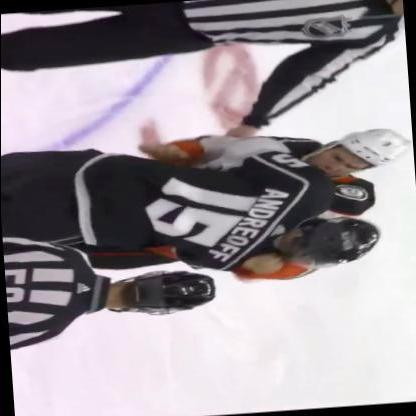voilence: (70, 108, 416, 295)
